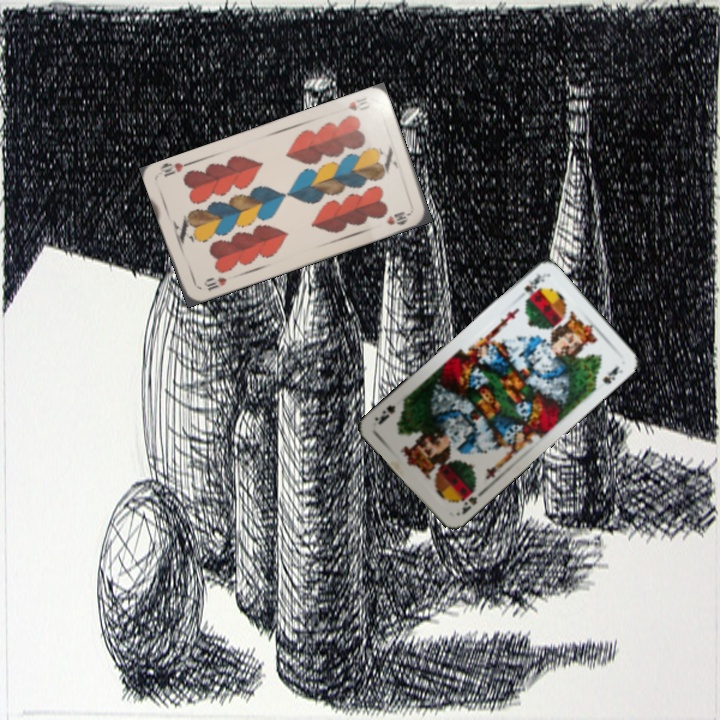H10: (200, 272, 230, 293), (344, 94, 370, 113)
SK: (520, 269, 547, 295), (457, 492, 480, 517)
